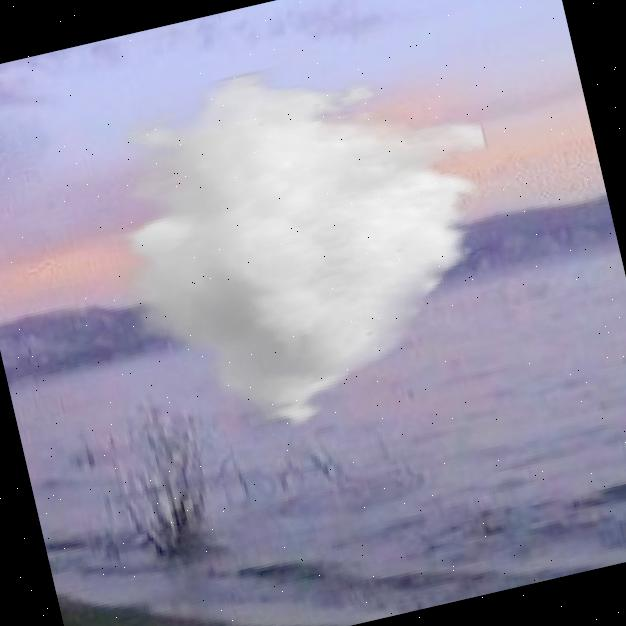smoke: (79, 24, 541, 465)
